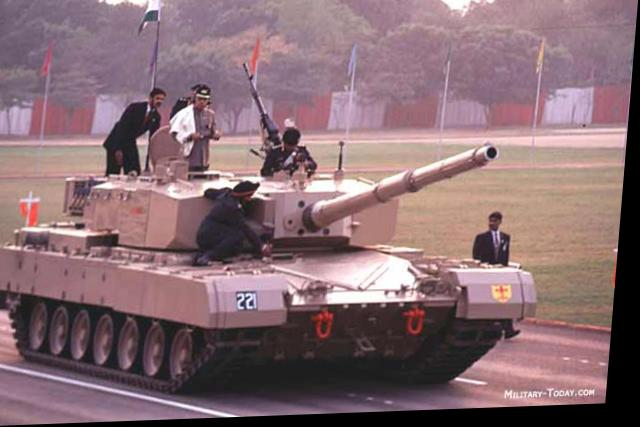tank: (0, 151, 548, 389)
